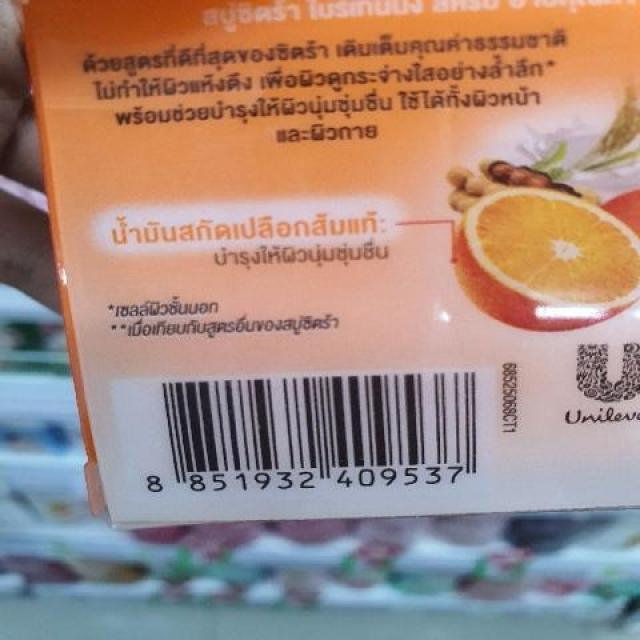Barcode: (139, 366, 496, 507)
